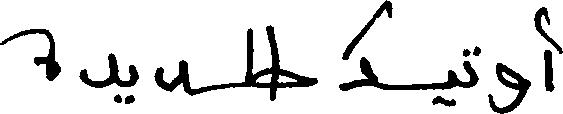X: (246, 20, 314, 105), (340, 0, 389, 95), (0, 24, 60, 85), (81, 48, 117, 107), (544, 2, 562, 96), (498, 58, 526, 113), (155, 55, 188, 98), (465, 41, 476, 92), (449, 65, 458, 111), (129, 60, 137, 108)
